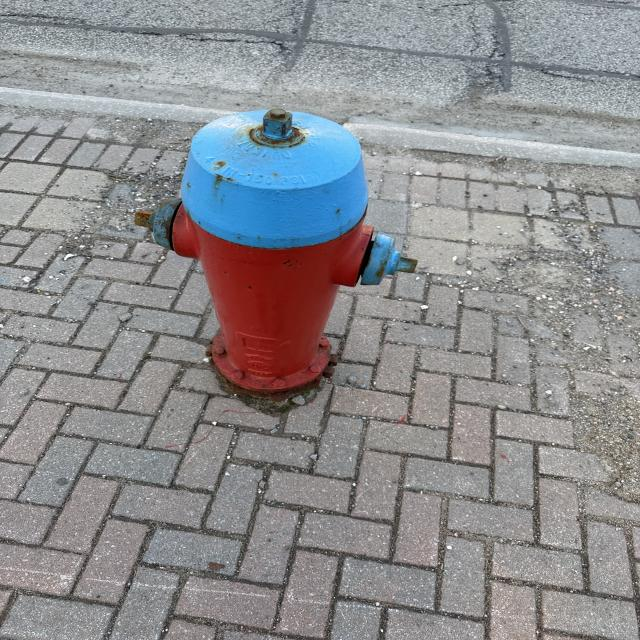Fire hydrant: (133, 108, 419, 402)
